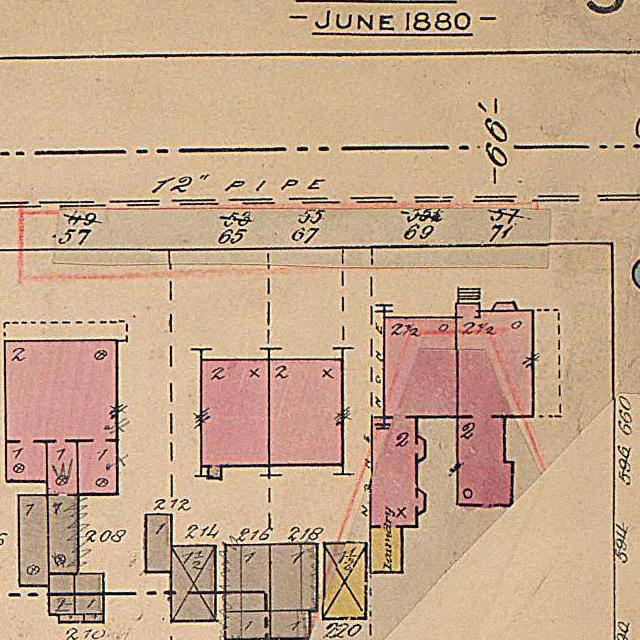building-footprints: (5, 340, 117, 574), (370, 317, 457, 573), (456, 304, 534, 506), (201, 360, 269, 479), (269, 359, 343, 465), (172, 546, 216, 621), (324, 543, 366, 619), (271, 544, 318, 611), (226, 545, 270, 611), (19, 496, 49, 586), (145, 515, 171, 572), (225, 611, 271, 640), (75, 574, 104, 614), (270, 611, 310, 639), (49, 574, 75, 615), (59, 615, 84, 623), (492, 303, 517, 311), (84, 614, 103, 622)
